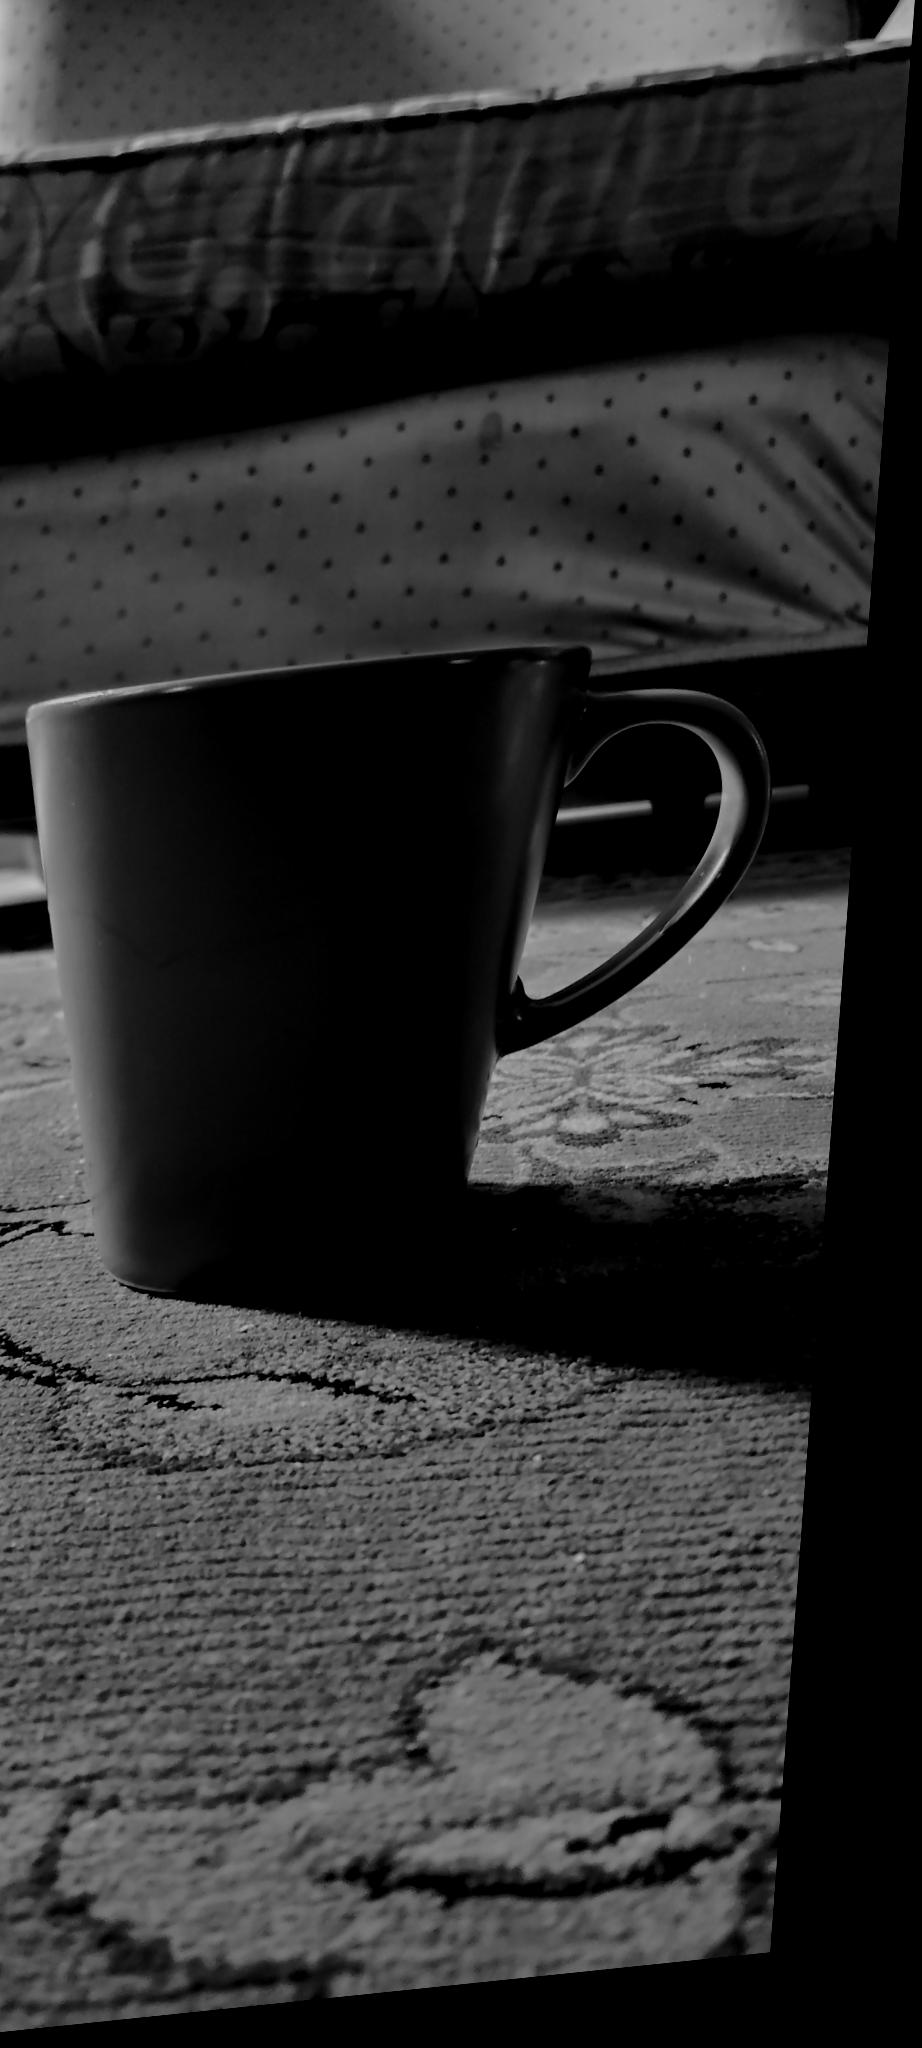Mug: (0, 609, 788, 1322)
